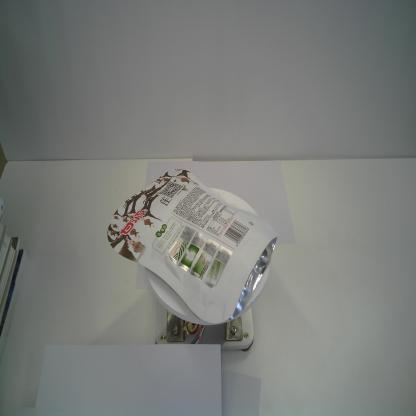Dried Fruit: (106, 167, 278, 324)
